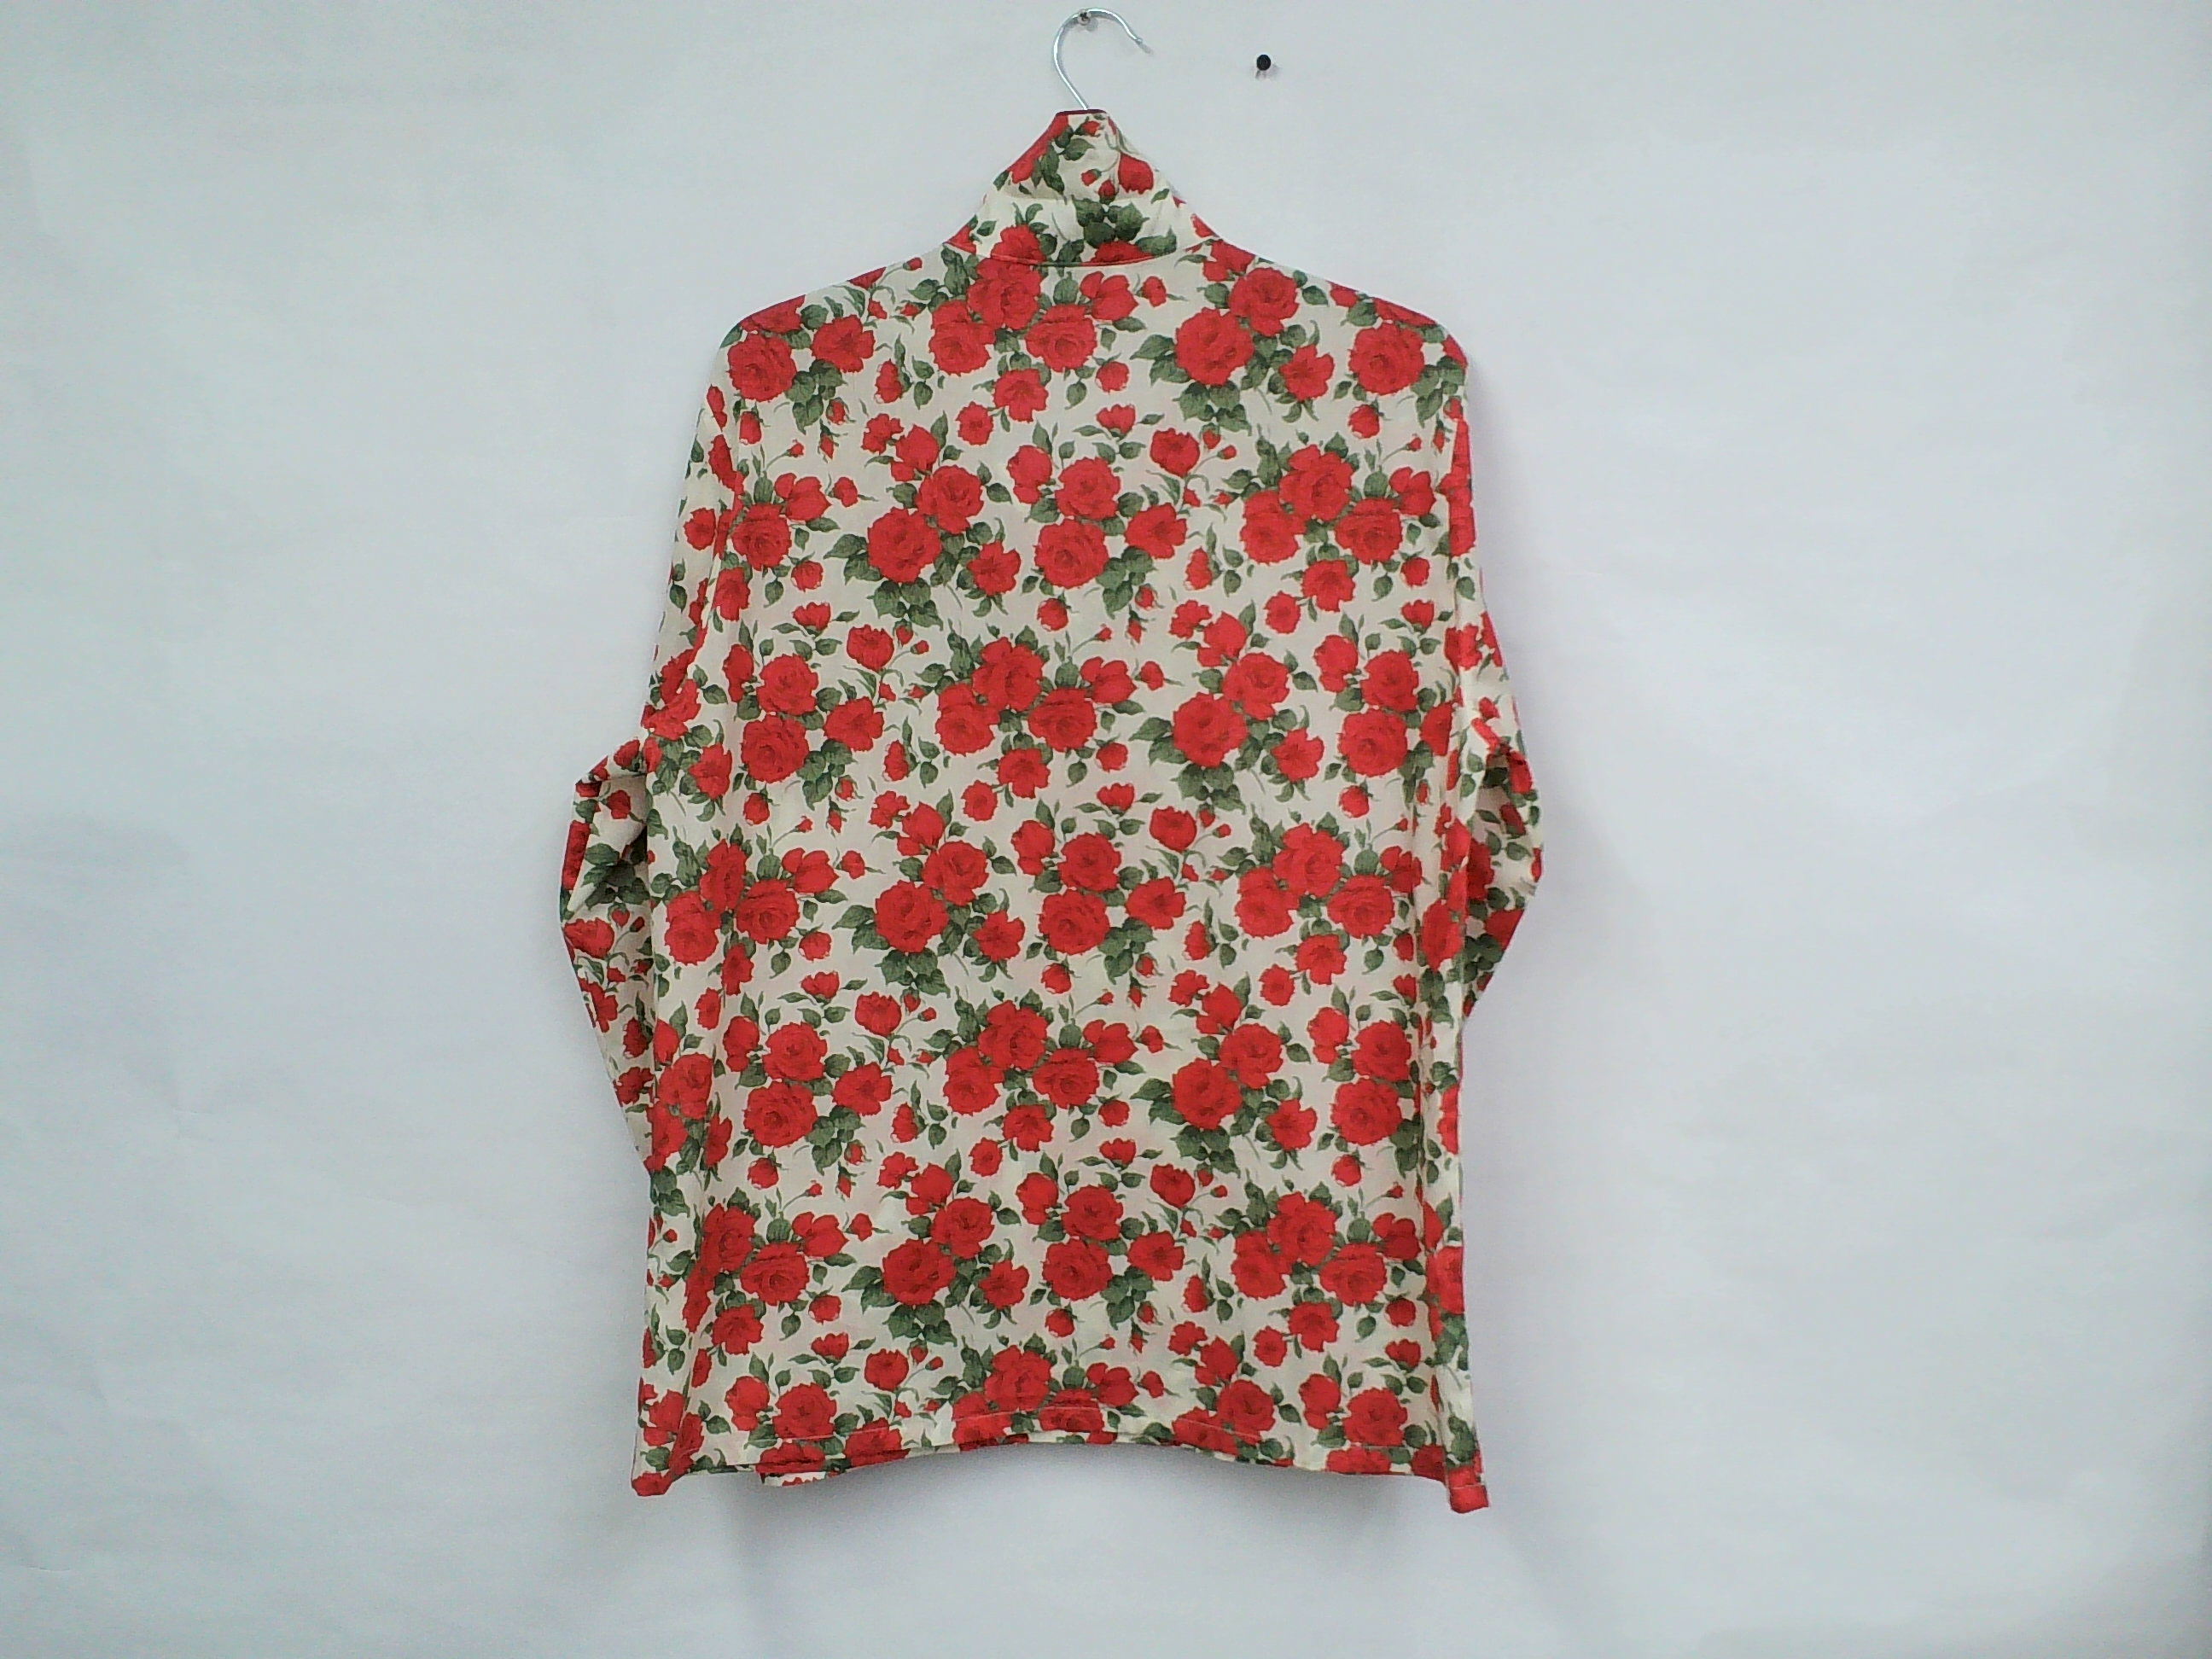seam: (939, 206, 1233, 281)
